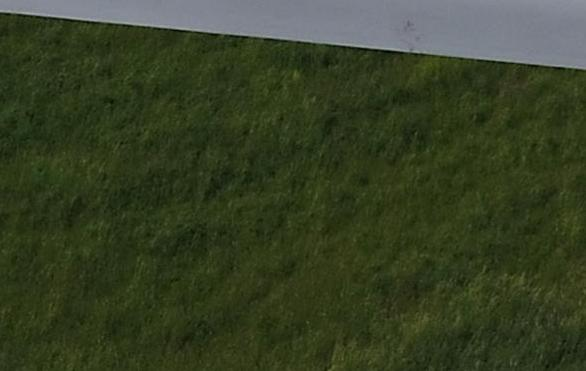damage: (400, 20, 427, 53)
